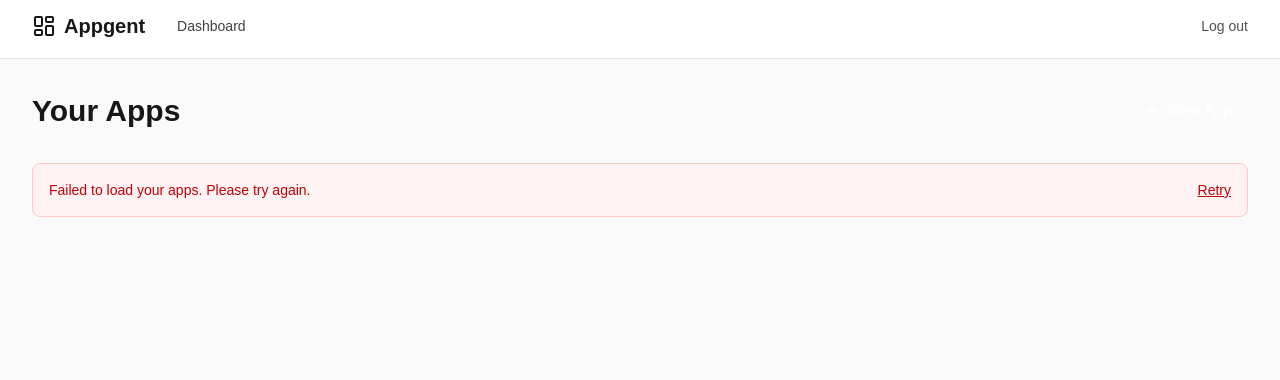
DashboardPage › renders a user-facing error with a retry button when loading apps fails
The width and height of the screenshot is (1280, 380).
Expected: the text "Failed to load your apps. Please try again." is shown, [49,180,310,200]
Expected: the text "No apps yet" is not shown
Click the button "Retry" at (1214, 190), box [1198,180,1231,200]
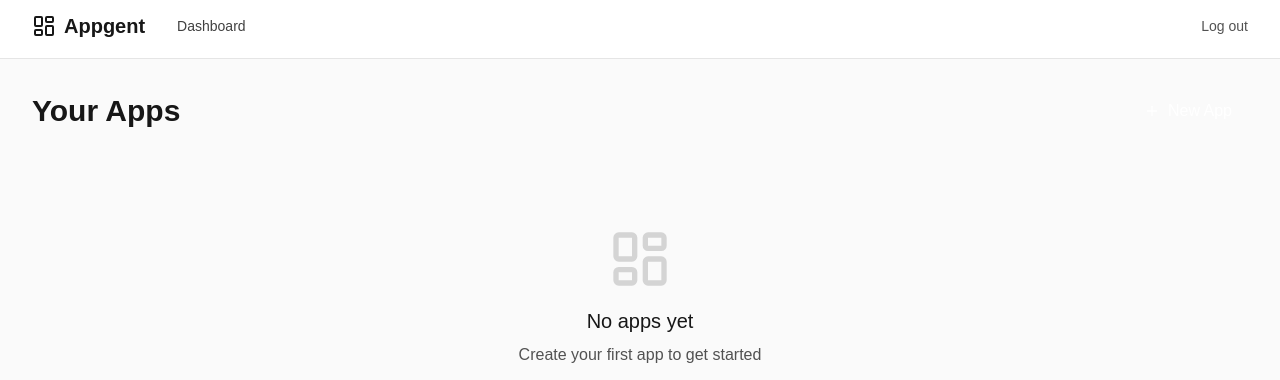
Result: the text "Failed to load your apps. Please try again." is gone
